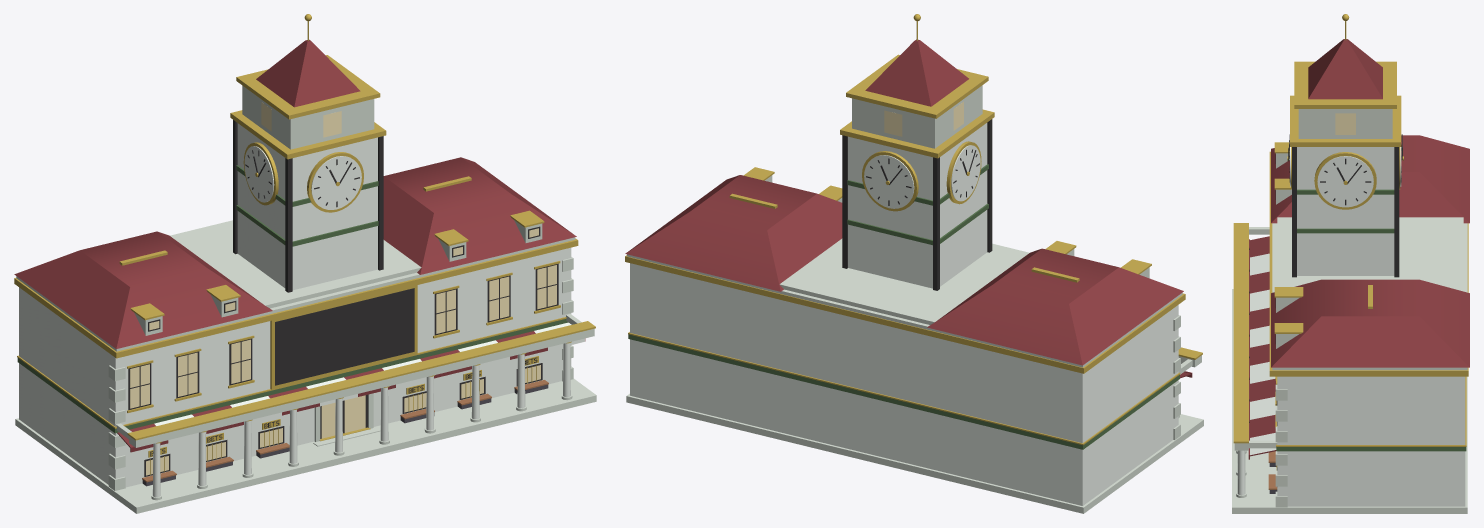
Rendered from downs-club.glb.
The picture shows the model from 3 angles, left to right: view 1: azimuth 30°, elevation 25°; view 2: azimuth 150°, elevation 25°; view 3: azimuth 270°, elevation 25°; orthographic projection. The views are drawn at different scales.
Parts seen in each view (by area): view 1: dn_club_mint, dn_club_barn, dn_club_mint2, dn_club_gold, dn_club_black, dn_club_glasswarm, dn_club_money2, dn_club_stripes, dn_club_saddle, dn_club_black2; view 2: dn_club_mint, dn_club_barn, dn_club_mint2, dn_club_gold, dn_club_money2, dn_club_black, dn_club_glasswarm; view 3: dn_club_mint, dn_club_barn, dn_club_mint2, dn_club_gold, dn_club_stripes, dn_club_black, dn_club_money2, dn_club_glasswarm.
Boxes of the visible parts, box(x1,y1,x2,y2) form: dn_club_mint: box(19, 123, 571, 497); dn_club_barn: box(14, 39, 585, 452); dn_club_mint2: box(15, 85, 596, 513); dn_club_gold: box(14, 14, 595, 475); dn_club_black: box(128, 120, 558, 476); dn_club_glasswarm: box(130, 102, 556, 475); dn_club_money2: box(17, 165, 568, 433); dn_club_stripes: box(154, 322, 584, 443); dn_club_saddle: box(142, 380, 548, 482); dn_club_black2: box(142, 384, 548, 486); dn_club_mint: box(630, 123, 1178, 505); dn_club_barn: box(625, 39, 1192, 378); dn_club_mint2: box(626, 85, 1203, 513); dn_club_gold: box(625, 14, 1202, 445); dn_club_money2: box(628, 164, 1179, 449); dn_club_black: box(842, 119, 992, 290); dn_club_glasswarm: box(884, 101, 963, 136); dn_club_mint: box(1237, 147, 1465, 506); dn_club_barn: box(1248, 39, 1469, 459); dn_club_mint2: box(1232, 109, 1467, 513); dn_club_gold: box(1233, 14, 1468, 470); dn_club_stripes: box(1250, 253, 1276, 455); dn_club_black: box(1249, 134, 1402, 470); dn_club_money2: box(1276, 189, 1466, 451); dn_club_glasswarm: box(1335, 113, 1355, 134).
Size of the model in its own units: 60.8 by 50.42 by 27.85.
